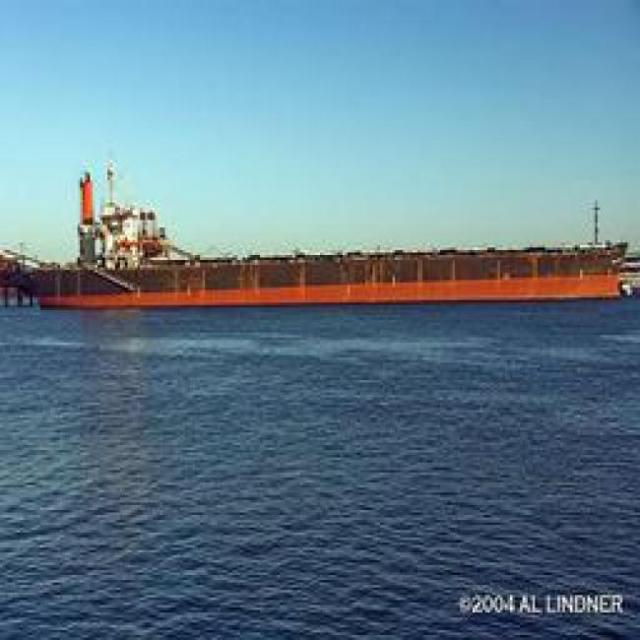boat: (13, 191, 634, 329)
